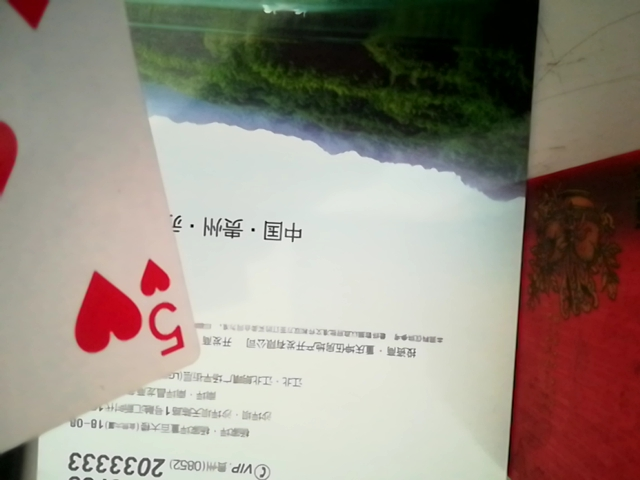hx 5: (1, 0, 195, 456)
